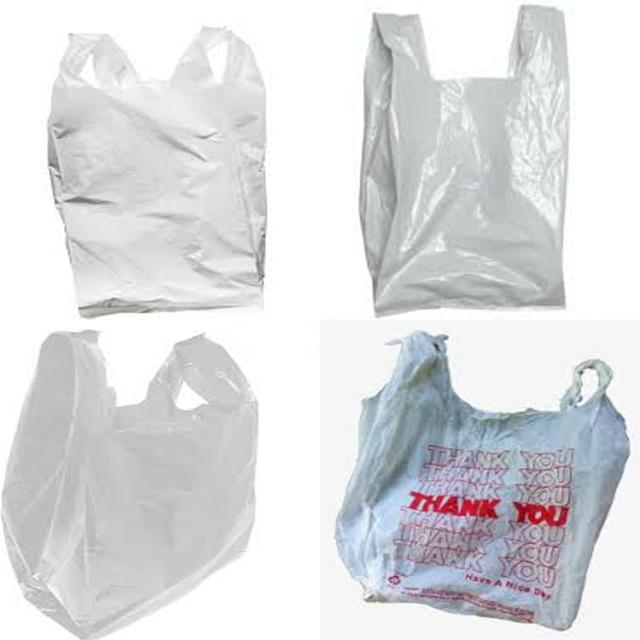Single-layer Plastic: (336, 331, 629, 629), (2, 330, 258, 639), (360, 5, 569, 314), (49, 28, 266, 316)
